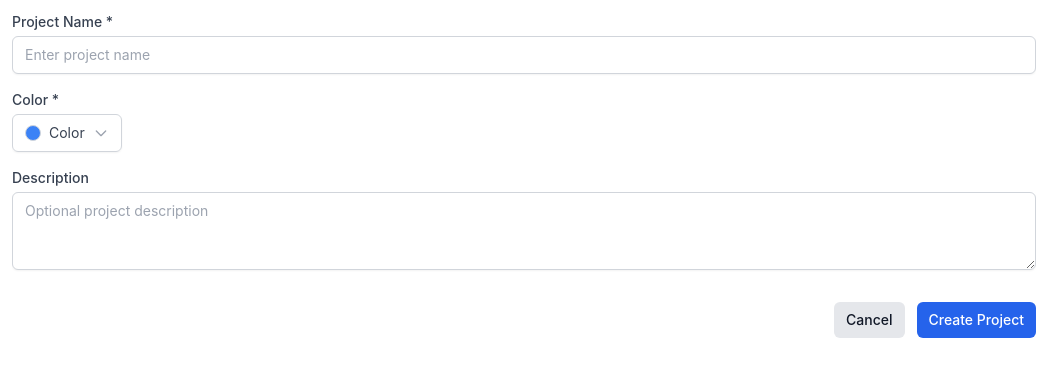
Test: ProjectForm › Create Mode › handles create error
This screenshot has width=1048, height=379.
Type "Existing Project" into the field labelled "Project Name *" at point(524, 55), box [12,36,1036,74]
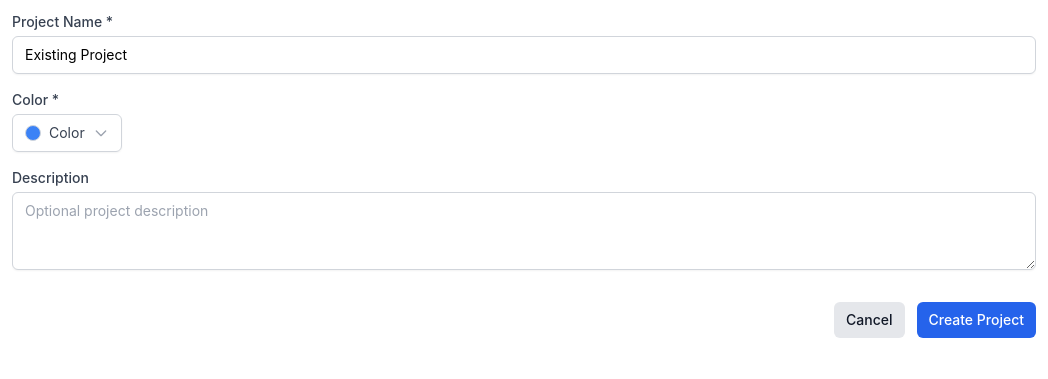
Click the button "Create Project" at point(976, 320), box [916,302,1036,338]
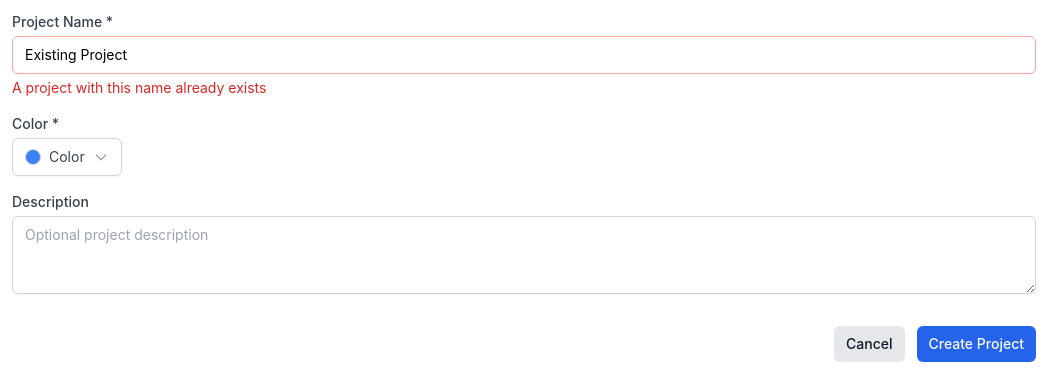
Check: the text "A project with this name already exists" is shown, box [12,79,266,96]
